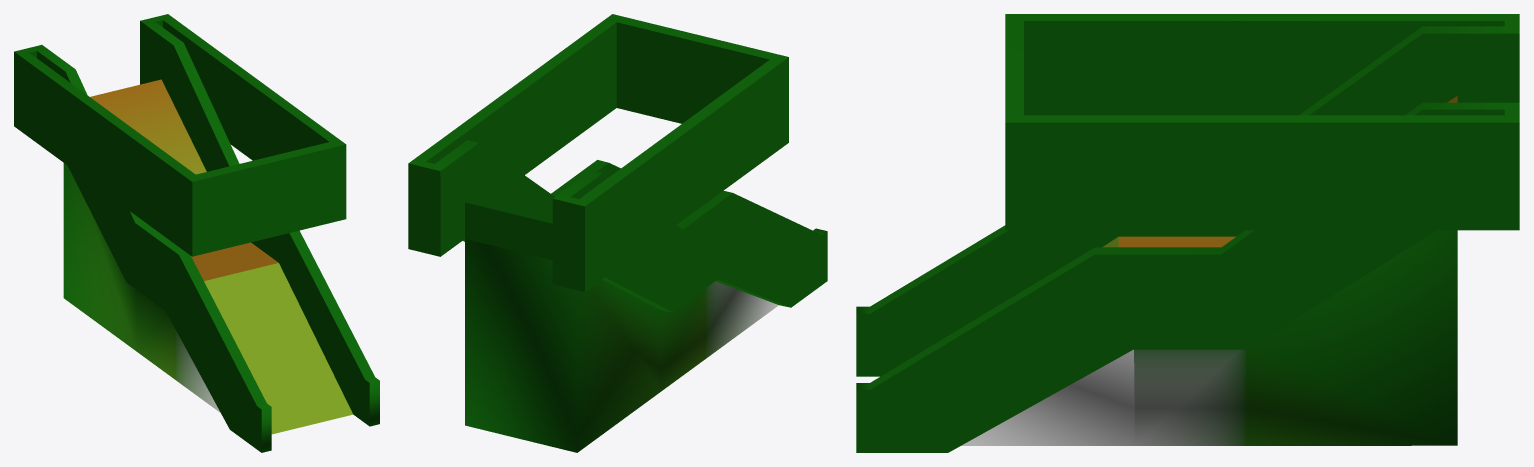
File: stairway_collider.fbx
3 renders of one model, left to right at view 1: azimuth 30°, elevation 25°; view 2: azimuth 150°, elevation 25°; view 3: azimuth 270°, elevation 25°, orthographic. The views are drawn at different scales.
Visible parts, largest first — view 1: stairway; view 2: stairway; view 3: stairway.
Boxes of the visible parts, bbox=[...] form: stairway: bbox=[14, 14, 379, 452]; stairway: bbox=[408, 14, 827, 452]; stairway: bbox=[856, 14, 1519, 452].
Size of the model in its own units: 303 by 448 by 784.
